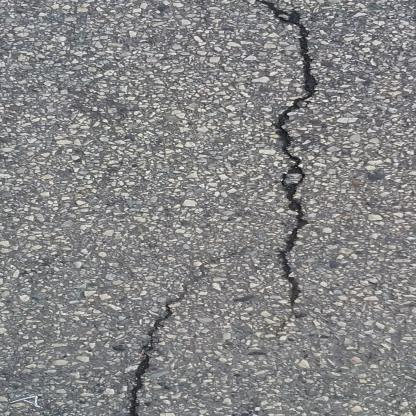Cracks: (245, 0, 318, 312), (102, 269, 209, 416)
